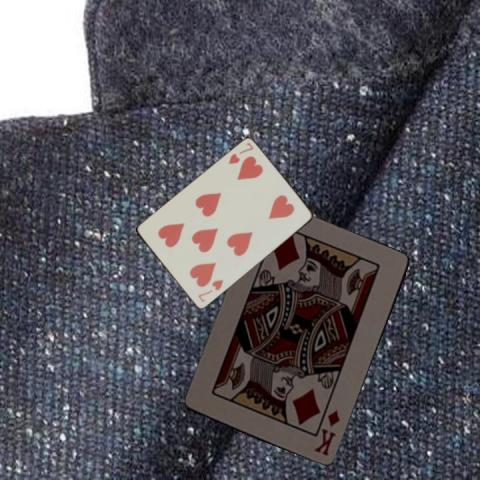7h: (195, 277, 225, 304), (225, 139, 255, 166)
Kd: (312, 407, 342, 458)
